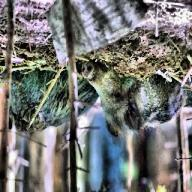boar: (80, 61, 187, 141), (7, 67, 99, 135)
